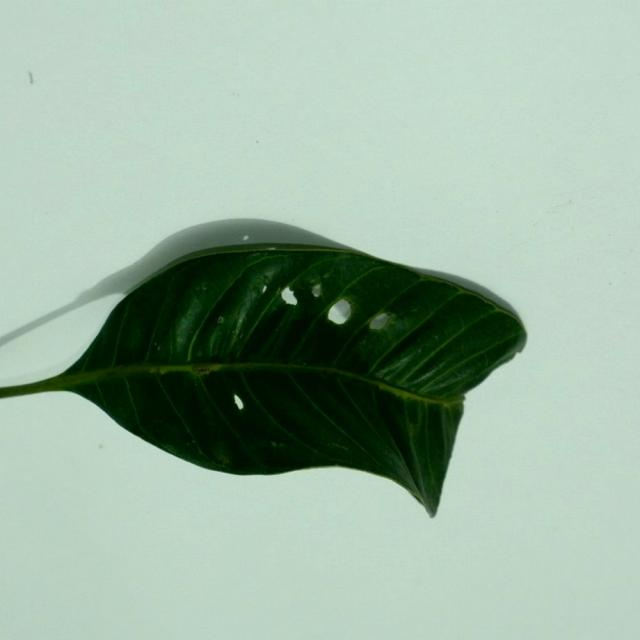Anthracnose: (324, 295, 356, 330), (328, 296, 359, 324), (369, 313, 391, 330), (281, 287, 296, 303), (233, 395, 245, 411), (311, 282, 323, 297)
Mango: (0, 220, 528, 520)
